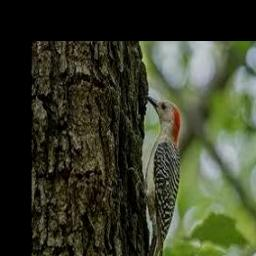Woodpecker: (126, 95, 180, 256)
